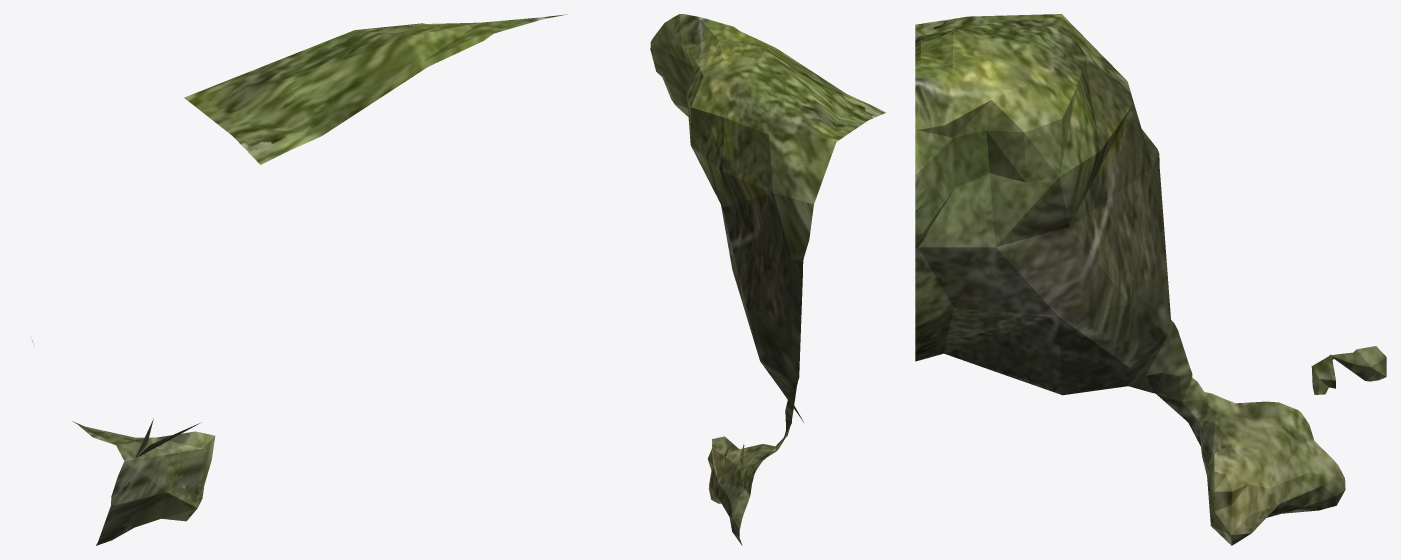
3 renders of one model, left to right at view 1: azimuth 30°, elevation 25°; view 2: azimuth 150°, elevation 25°; view 3: azimuth 270°, elevation 25°, orthographic. The views are drawn at different scales.
Bounding box in the file's own units: 1.78 × 2.72 × 2.1.
2 materials, 2 textured.
